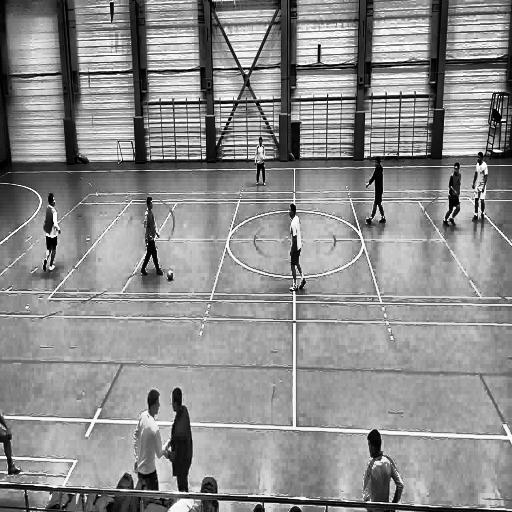ball: (166, 268, 176, 283)
player: (286, 200, 310, 296), (139, 193, 164, 280), (364, 155, 388, 230), (43, 188, 61, 278), (442, 162, 462, 233), (472, 150, 488, 224), (254, 133, 268, 189)
